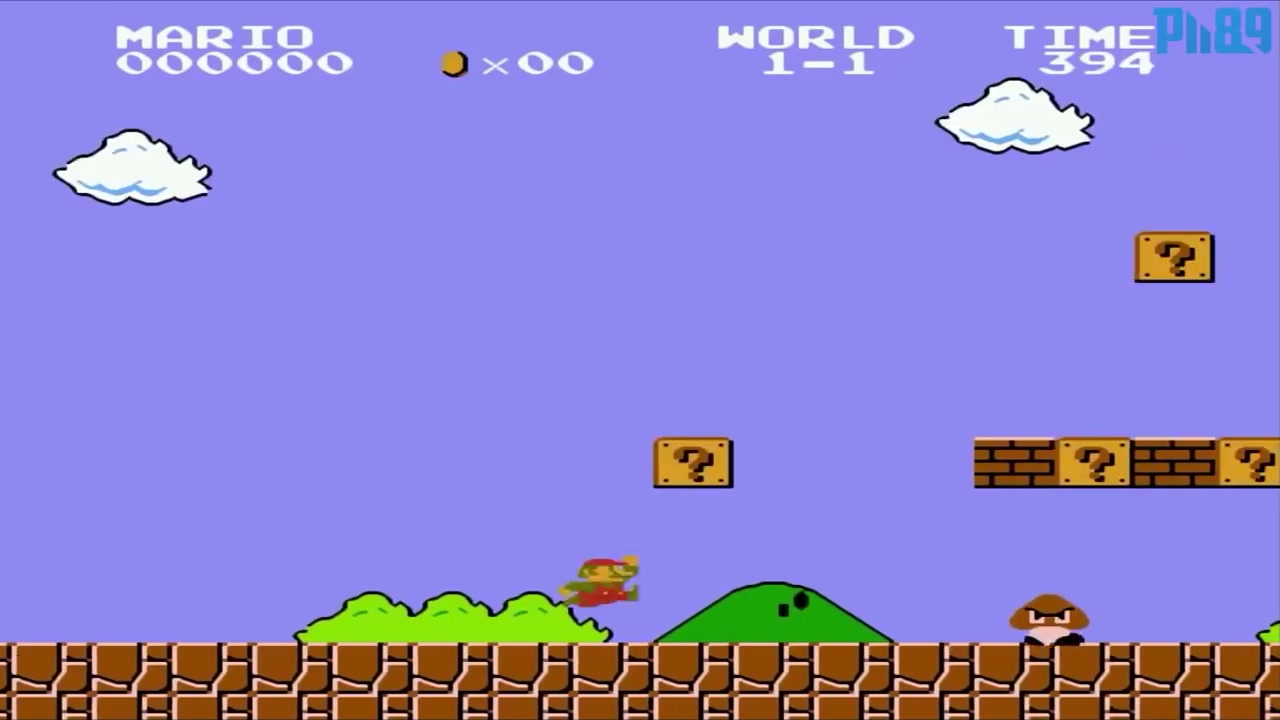mario: (547, 544, 653, 612)
